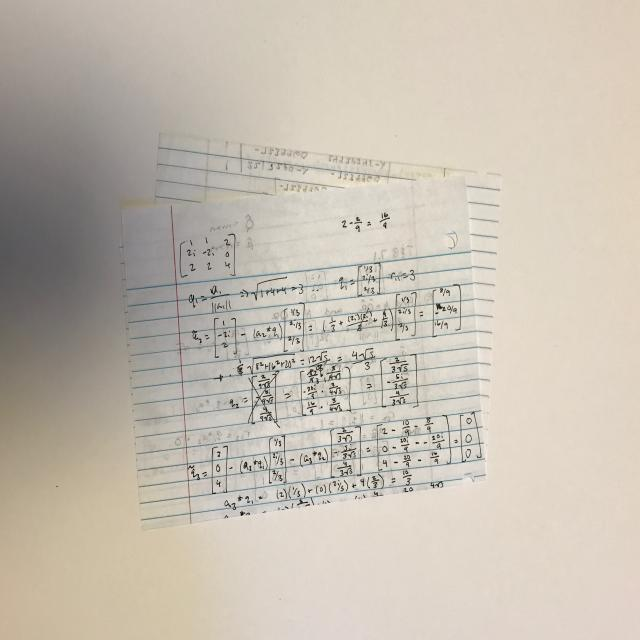paper: (119, 133, 503, 536)
